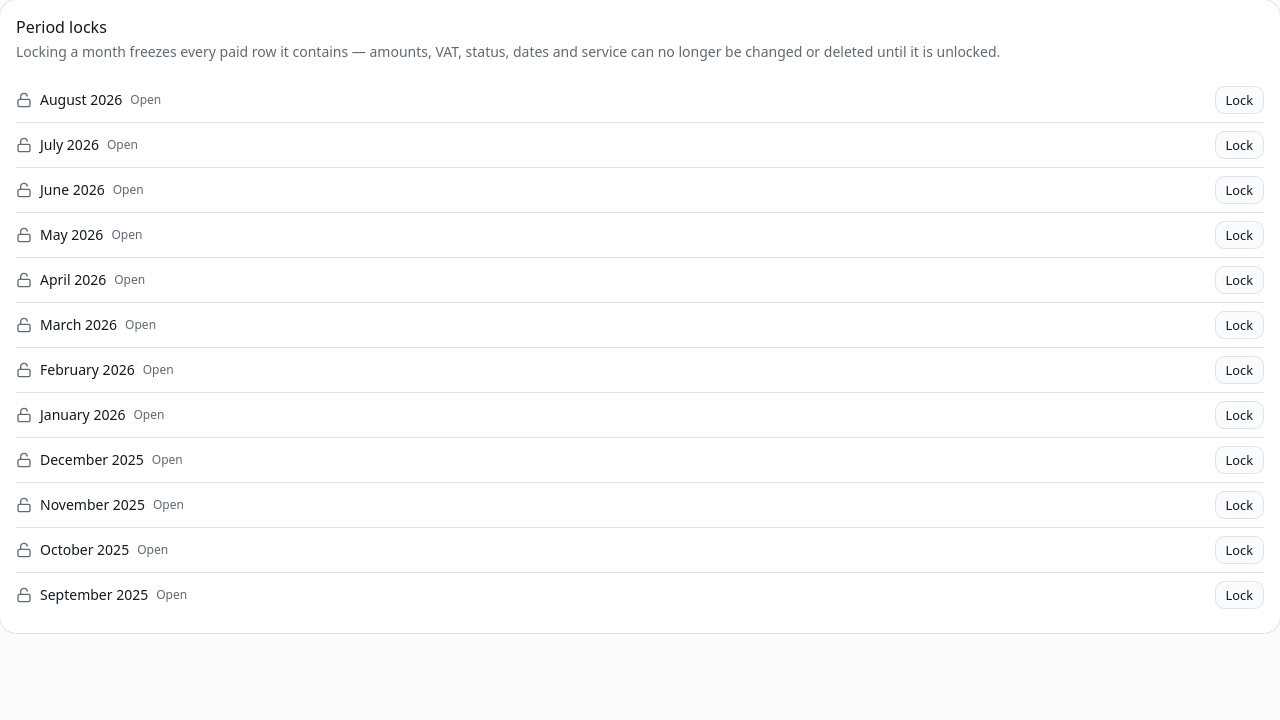
Test: PeriodLockControl › shows the RPC error inline when locking fails (e.g. non-admin)
Step 1. Click the button "Lock" in the row of "August 2026" → (1239, 100), box [1215,86,1264,114]
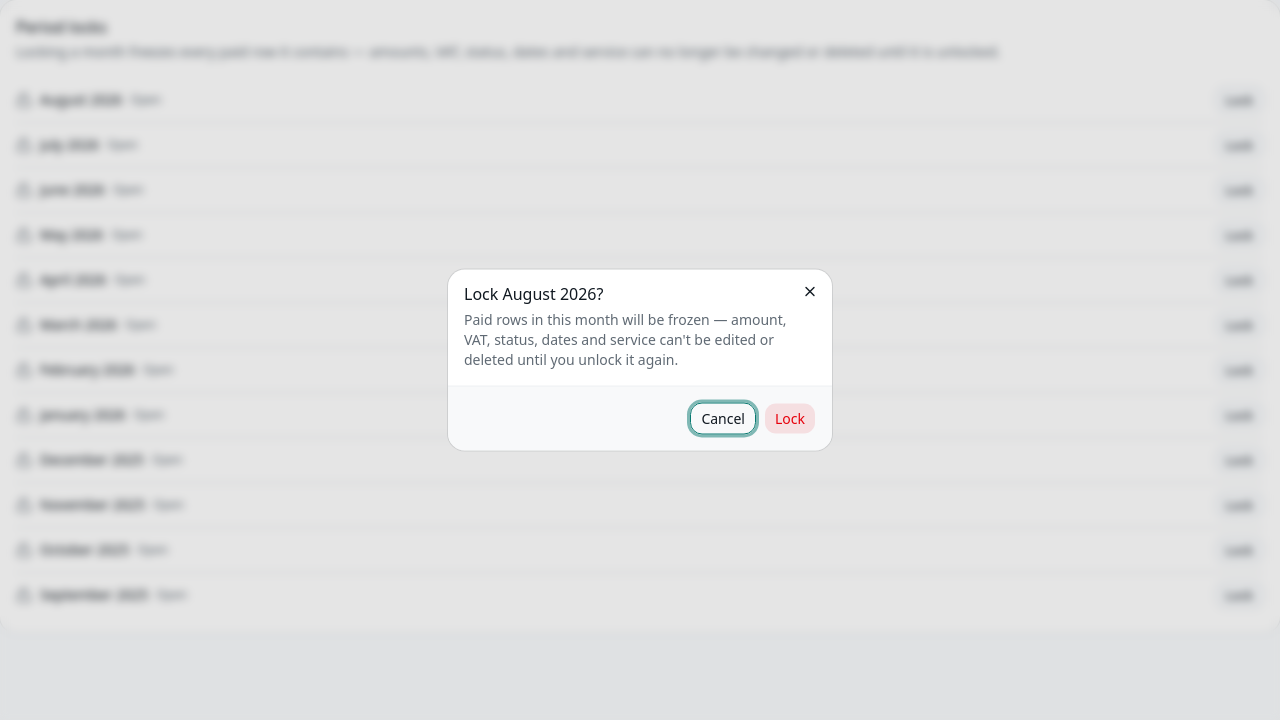
Step 2. Click the button "Lock" → (790, 418), box [764,402,816,434]
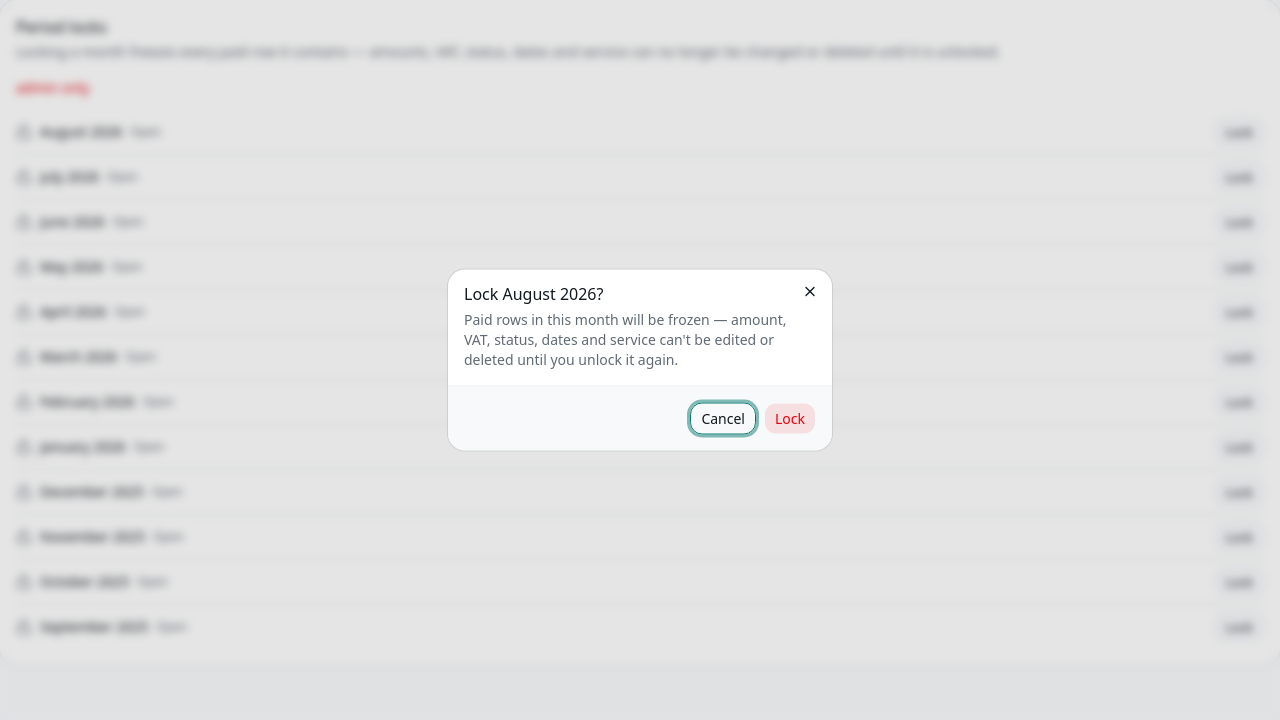
Result: the text "admin only" is shown at [16,78,89,97]
